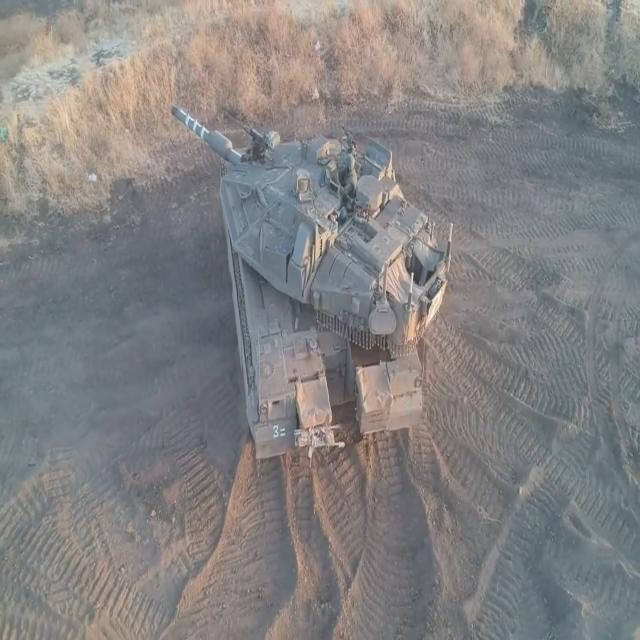tank: (168, 86, 460, 444)
